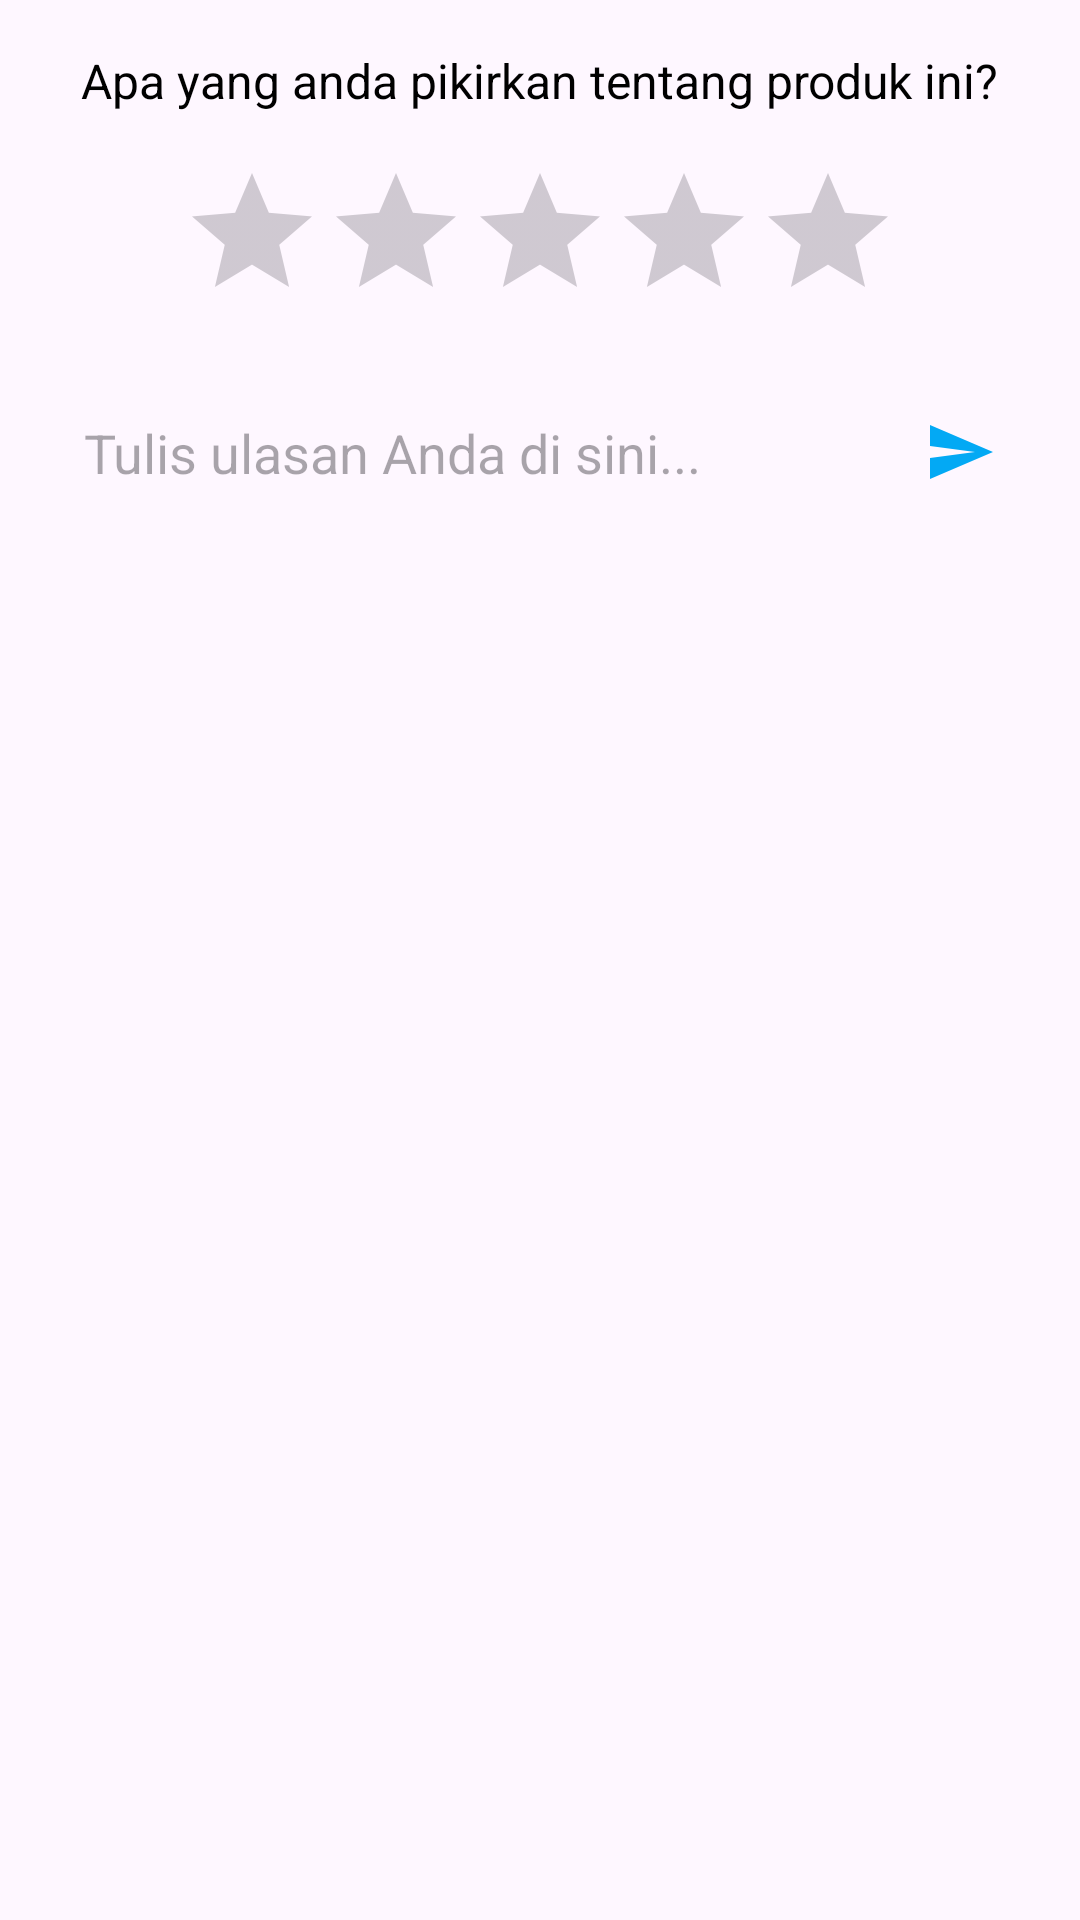

Icons on this 1080w x 1920h Android screen, each with its box as (x1, y1, x2, y2):
Kirim ulasan: (930, 425, 993, 479)
